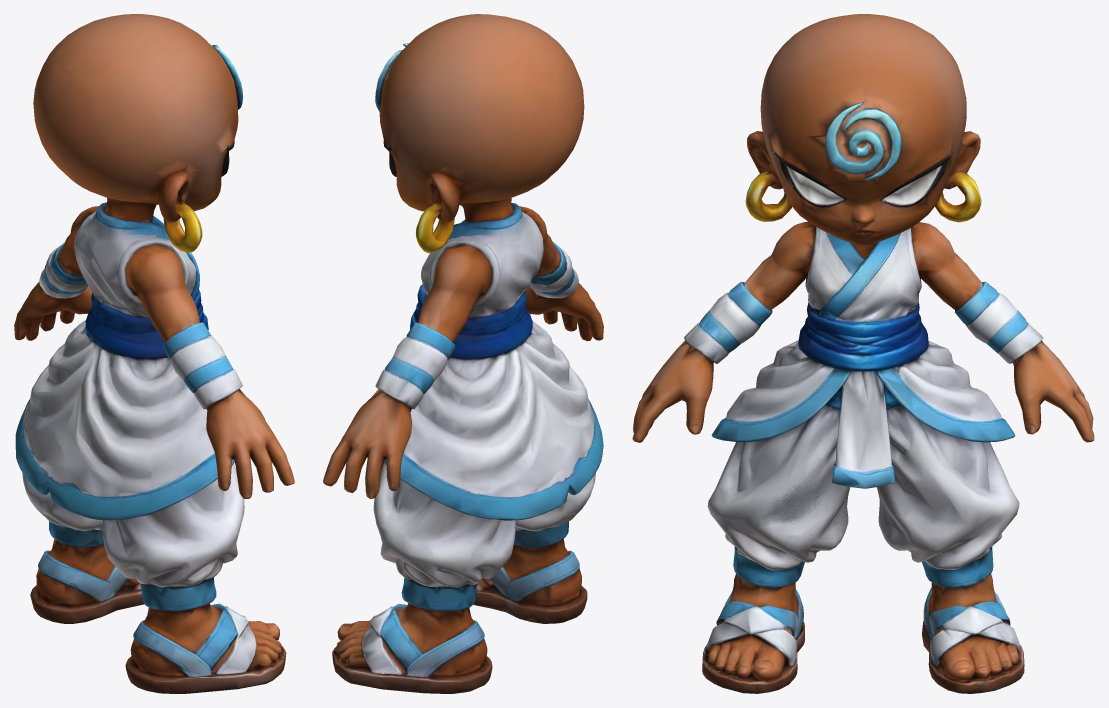
The model's file is air.glb.
3 renders of one model, left to right at view 1: azimuth 30°, elevation 25°; view 2: azimuth 150°, elevation 25°; view 3: azimuth 270°, elevation 25°, orthographic.
Parts seen in each view (by area): view 1: tripo_node_a0bc434b-3029-48f1-b444-c4ae2c725eaa; view 2: tripo_node_a0bc434b-3029-48f1-b444-c4ae2c725eaa; view 3: tripo_node_a0bc434b-3029-48f1-b444-c4ae2c725eaa.
Boxes of the visible parts, x1=… form: tripo_node_a0bc434b-3029-48f1-b444-c4ae2c725eaa: x1=14, y1=14, x2=294, y2=693; tripo_node_a0bc434b-3029-48f1-b444-c4ae2c725eaa: x1=323, y1=14, x2=603, y2=693; tripo_node_a0bc434b-3029-48f1-b444-c4ae2c725eaa: x1=632, y1=14, x2=1094, y2=693.
Bounding box in the file's own units: 0.3129 × 0.9996 × 0.6683.
Materials: 1 (1 with a texture image).
